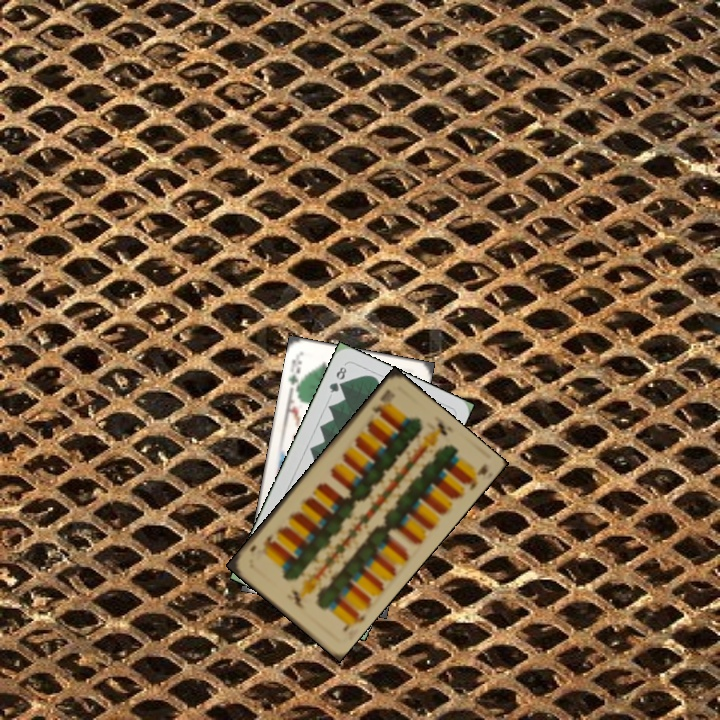E10: (367, 385, 394, 418), (339, 609, 369, 634)
G8: (325, 362, 349, 396)
GK: (284, 352, 304, 393)
